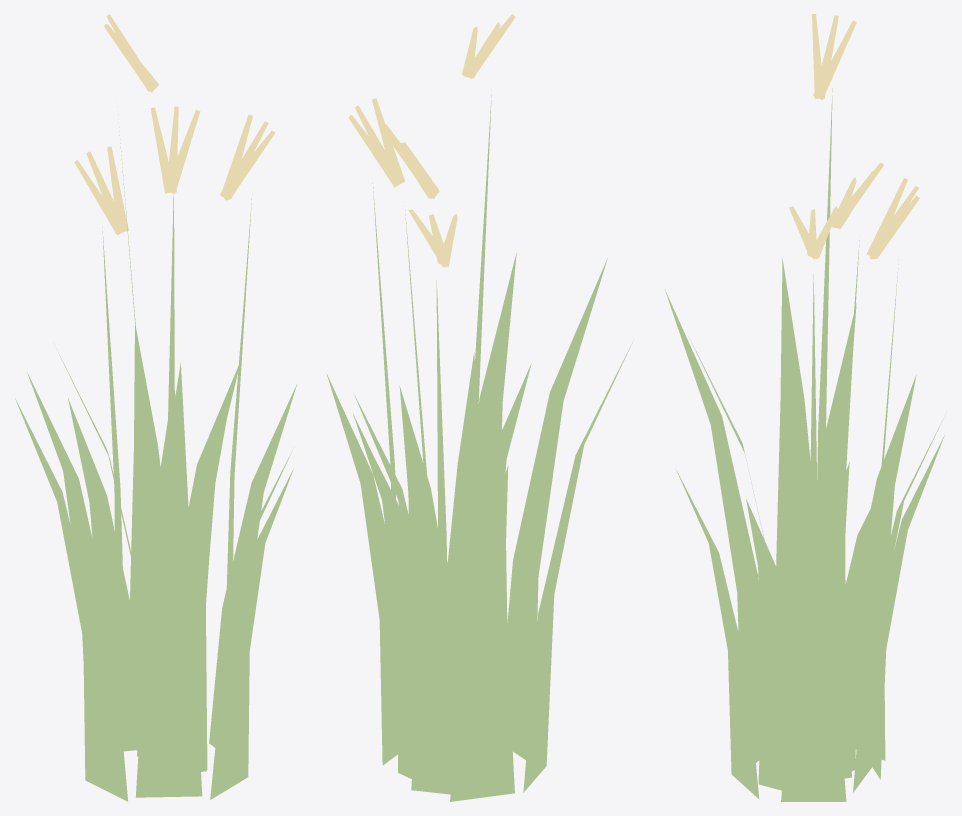
Rendered from Blender_Bluestem_2.glb.
The picture shows the model from 3 angles, left to right: view 1: azimuth 30°, elevation 25°; view 2: azimuth 150°, elevation 25°; view 3: azimuth 270°, elevation 25°; orthographic projection. The views are drawn at different scales.
Parts seen in each view (by area): view 1: Blender_Bluestem_2; view 2: Blender_Bluestem_2; view 3: Blender_Bluestem_2.
Part boxes in pixels (x1,y1,x2,y2): Blender_Bluestem_2: [15, 14, 296, 801]; Blender_Bluestem_2: [326, 14, 633, 801]; Blender_Bluestem_2: [664, 14, 944, 801].
Size of the model in its own units: 0.4974 by 1.24 by 0.4334.
